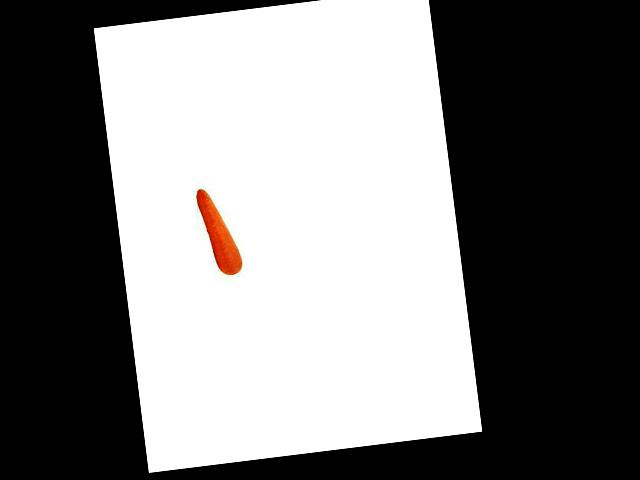carrot: (191, 179, 244, 281)
